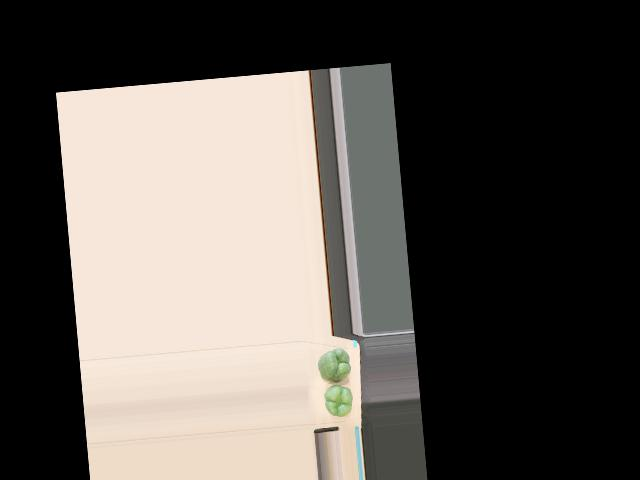bell_pepper: (319, 382, 354, 417)
